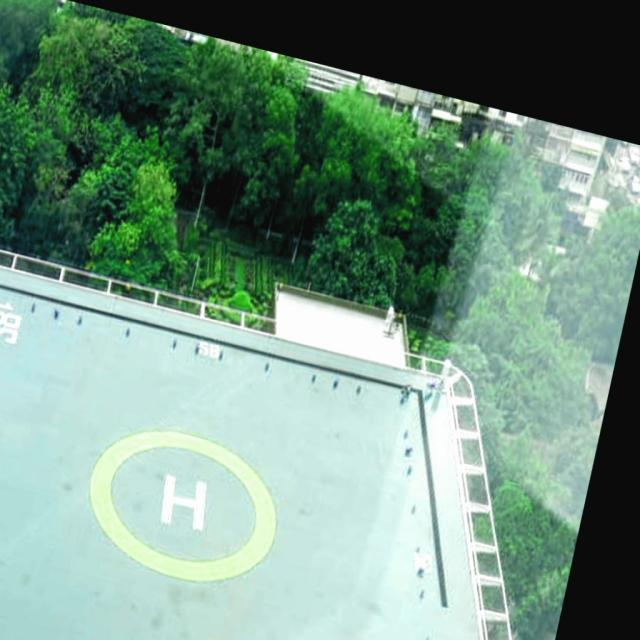helipad: (80, 422, 284, 586)
